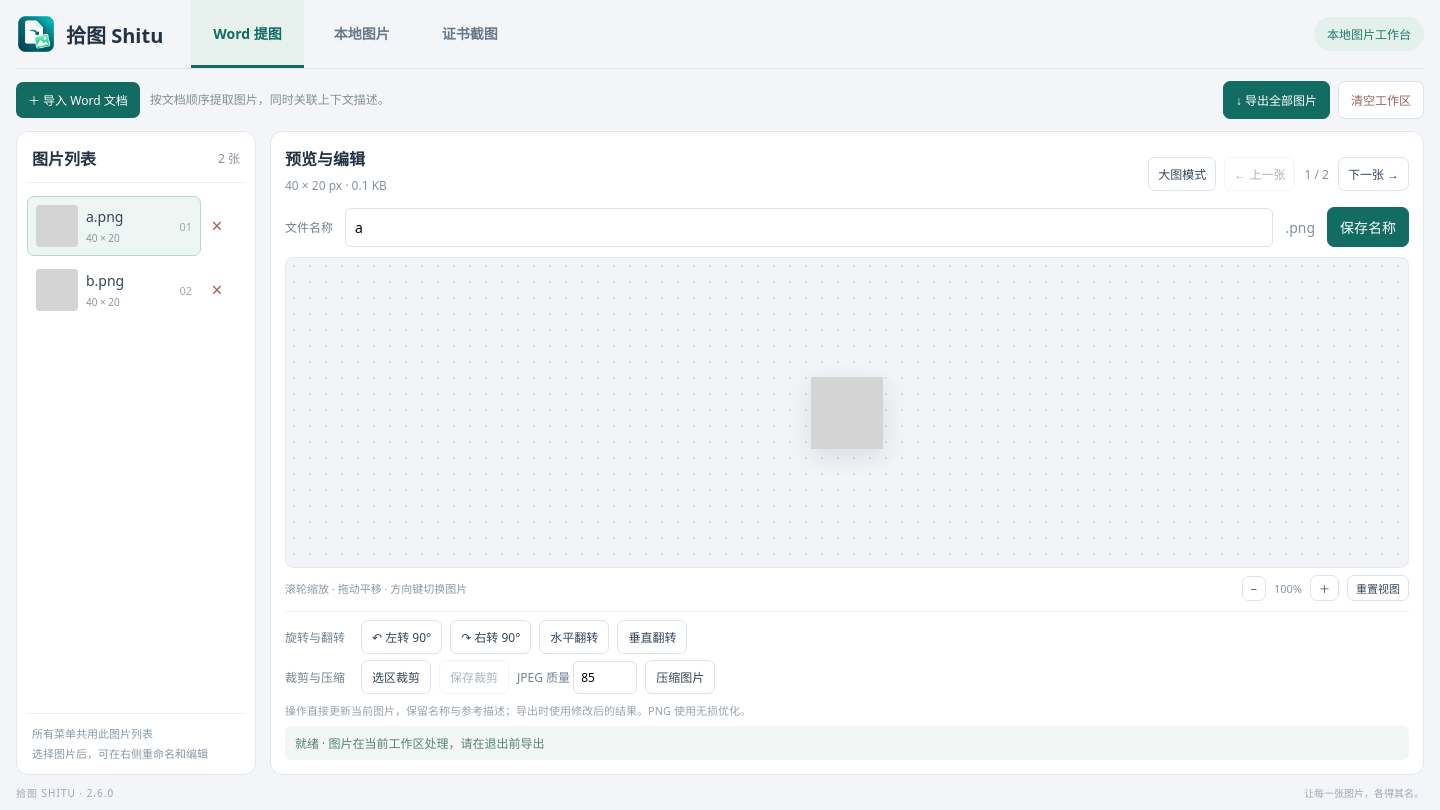
workspace actions › clears list, selection, name, preview and controls after confirming
This screenshot has width=1440, height=810.
Replace the text in the field with id "filename" with "未保存名称" at point(809, 227), box 345,208 -> 1273,246
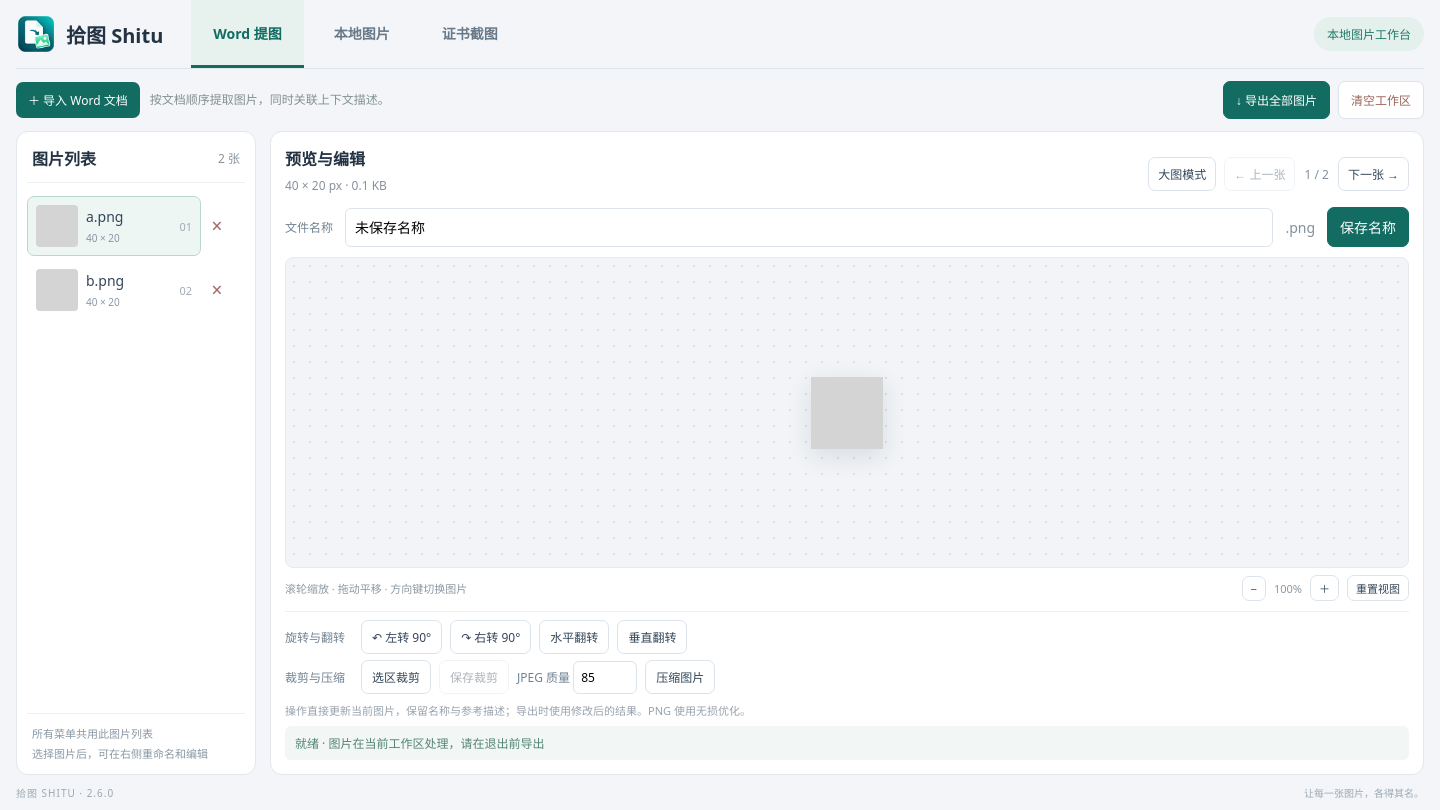
Click the button "选区裁剪".
click(396, 677)  # box 361,660 -> 431,694
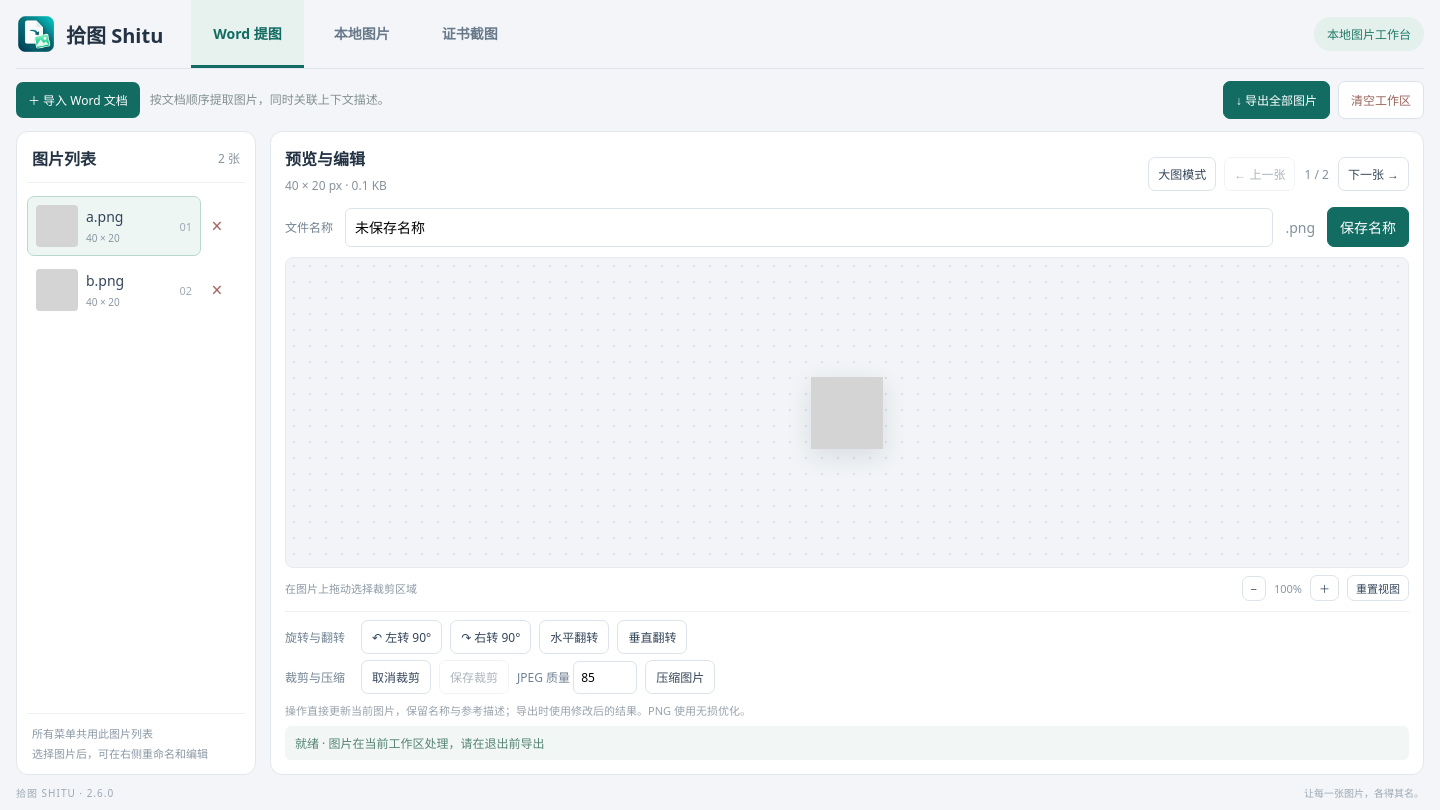
Click the button "清空工作区".
click(1381, 100)  # box 1338,81 -> 1424,119
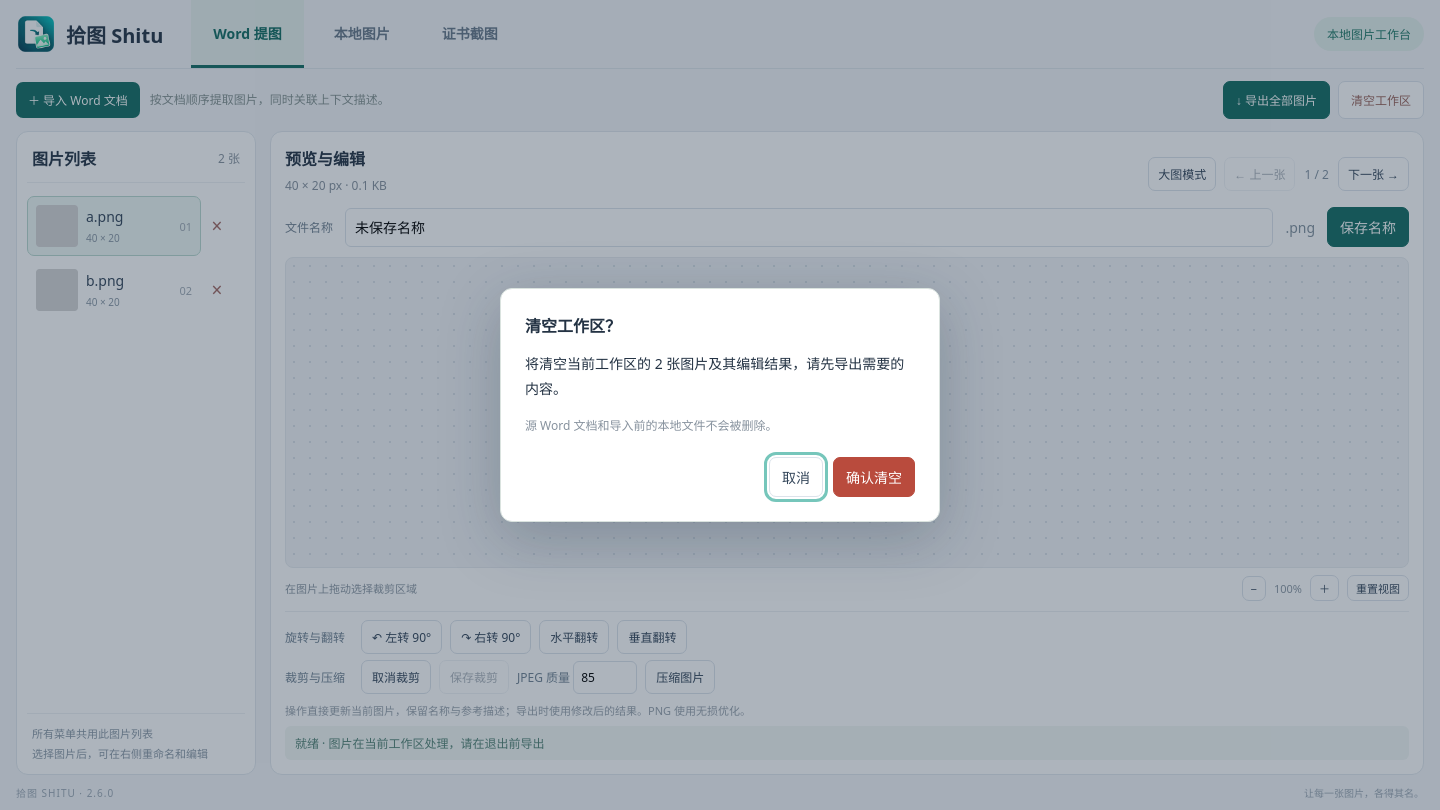
Click the button "确认清空".
click(874, 477)  # box 833,457 -> 915,497
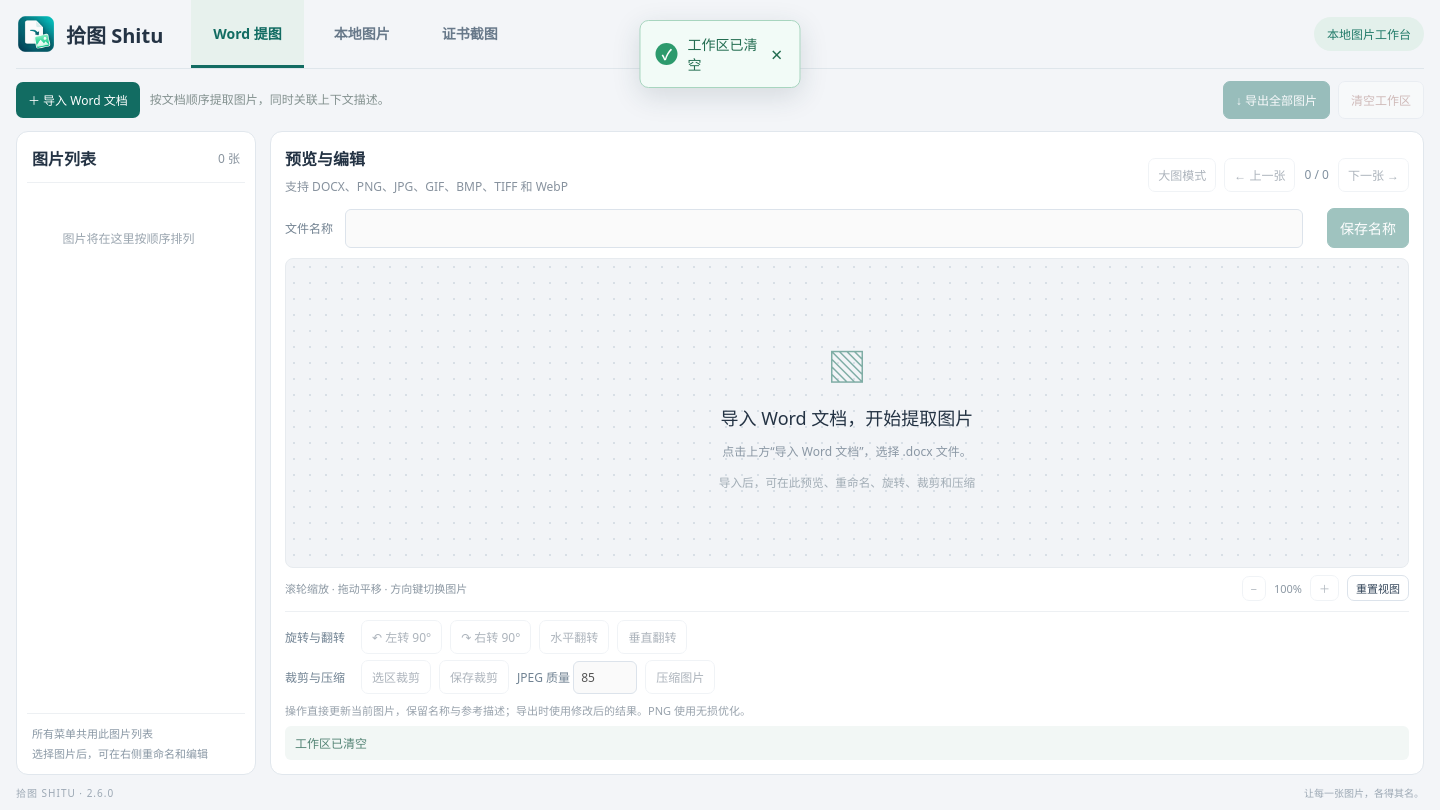
Now no elements with class "image-row" are shown
Now the field with id "filename" is empty, box 345,208 -> 1303,248
Now the navigation bar with class "image-pagination" shows "0 / 0", box 1304,166 -> 1329,183
